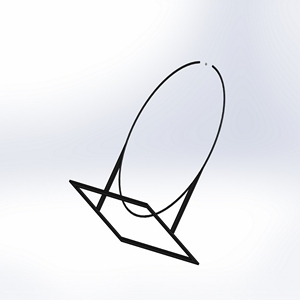circle: (67, 57, 226, 266)
